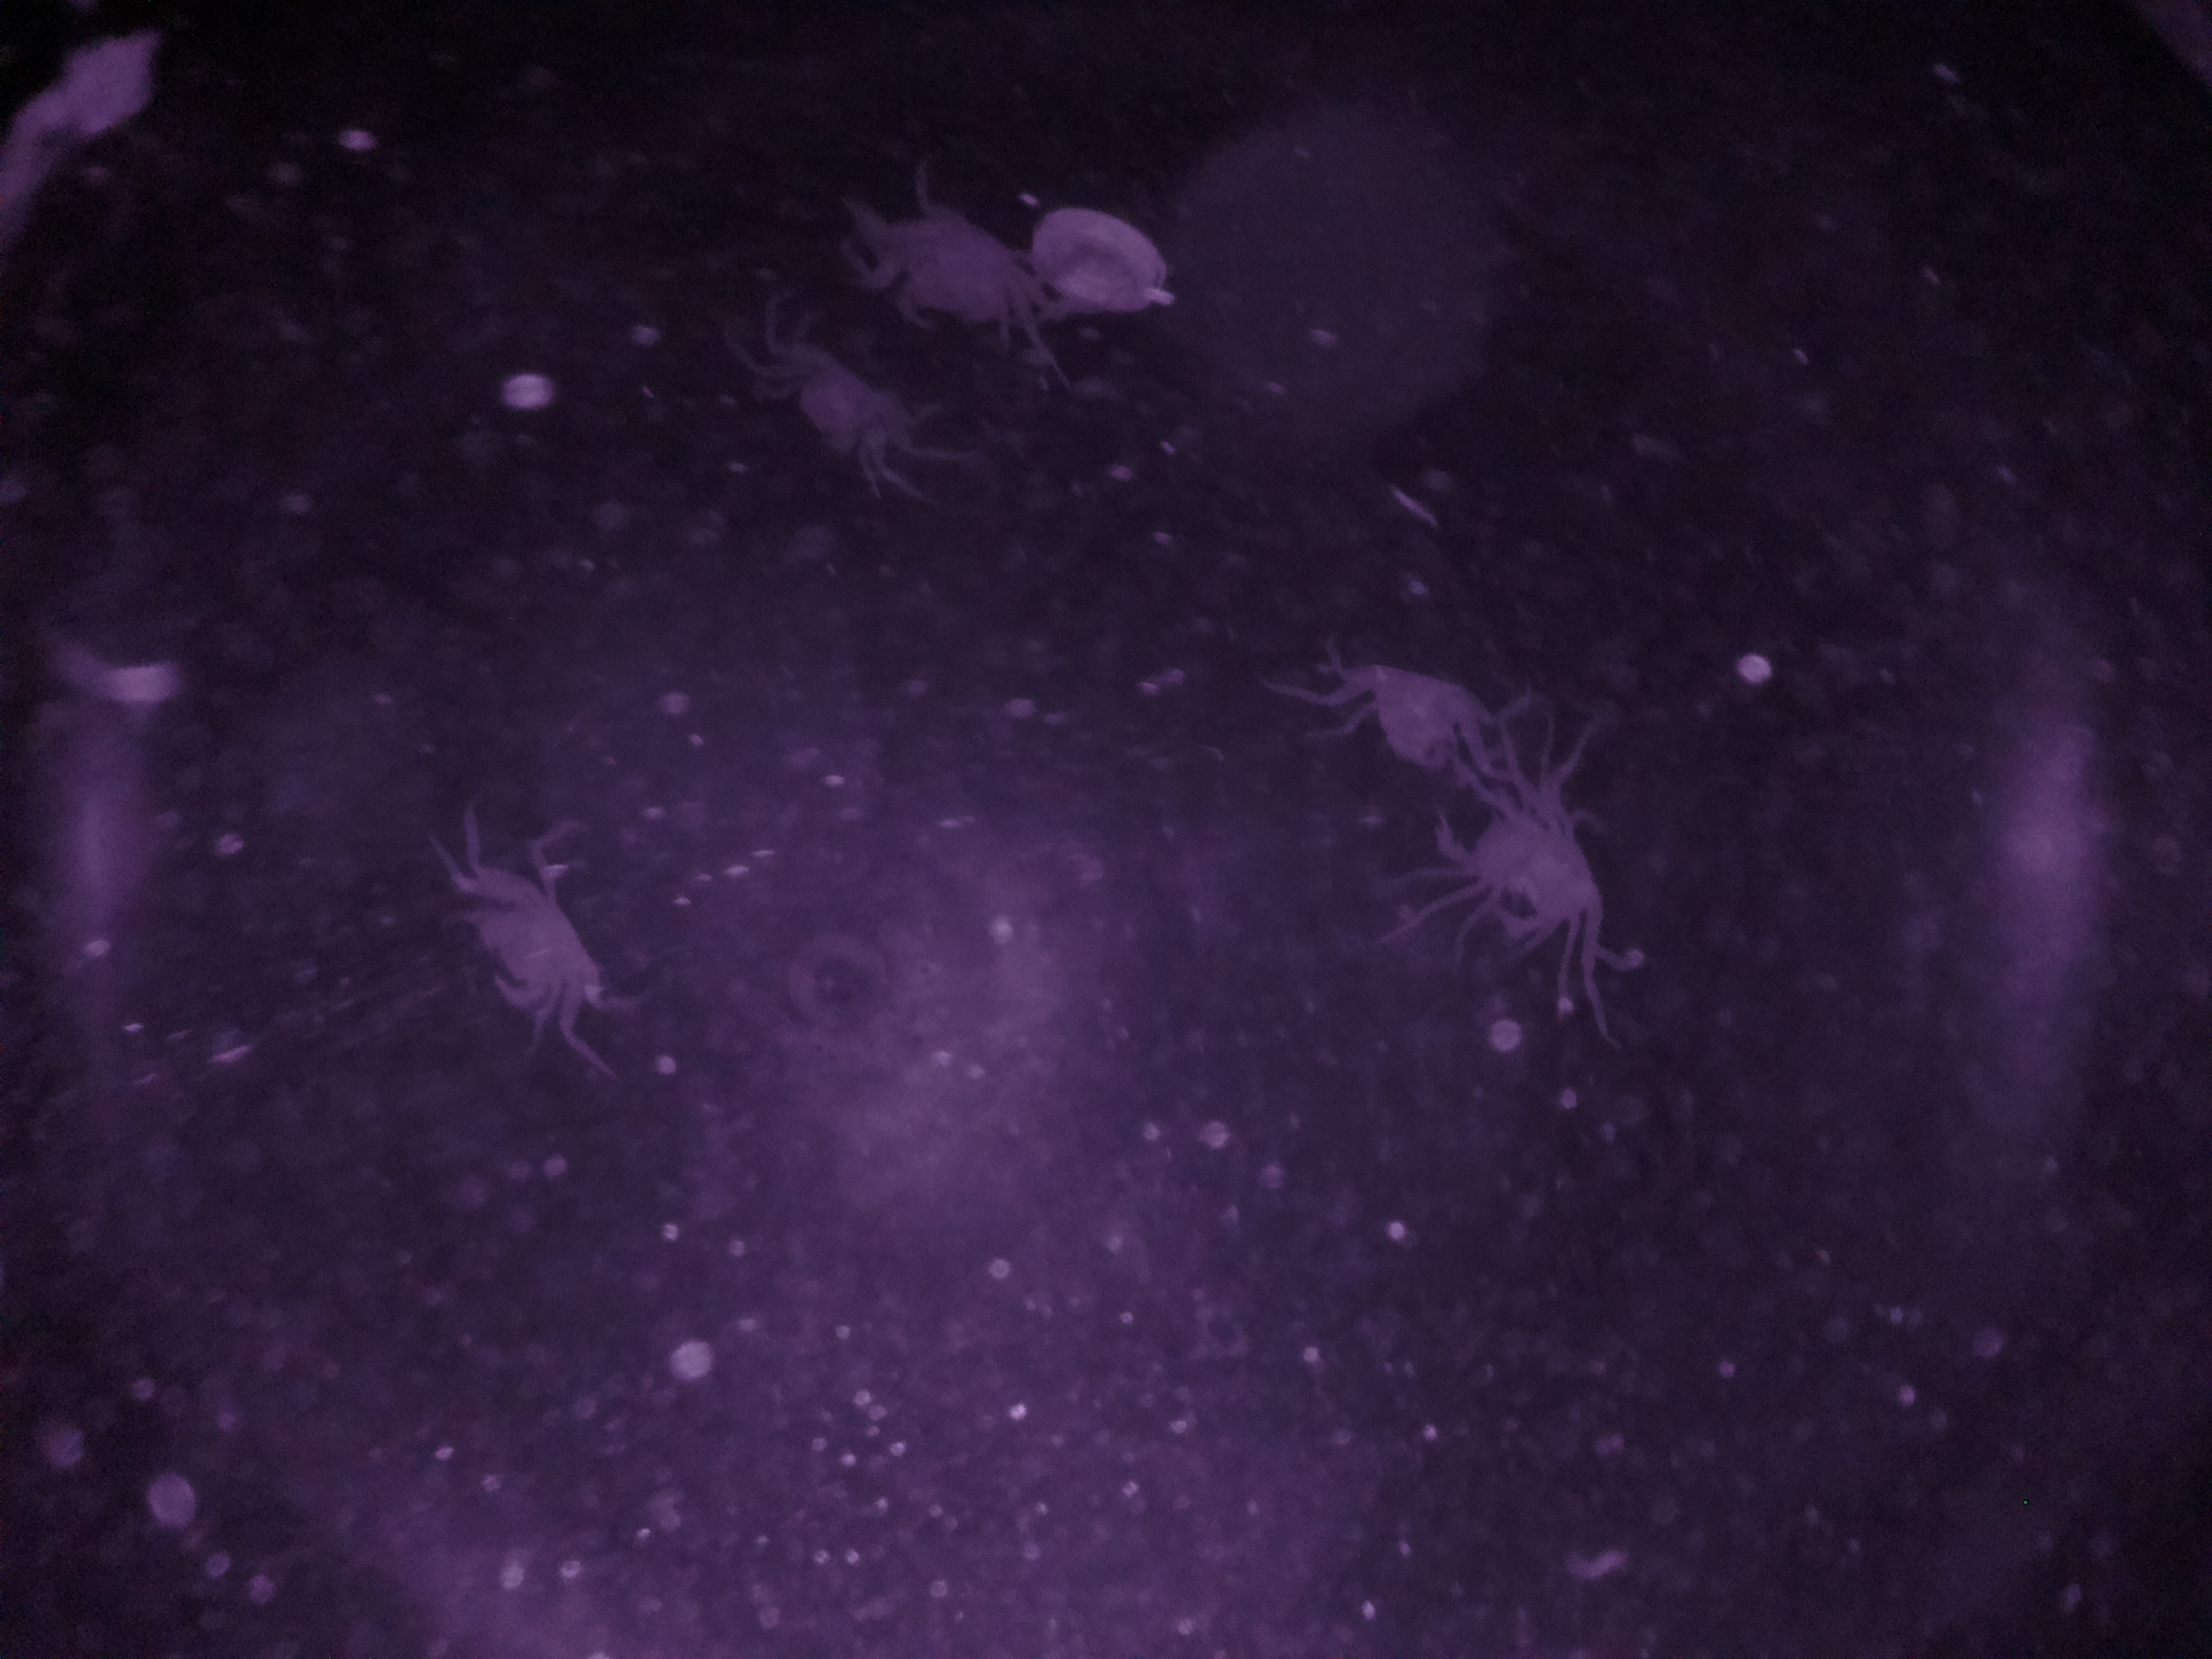Crab: (446, 802, 615, 1051), (744, 315, 953, 490)
